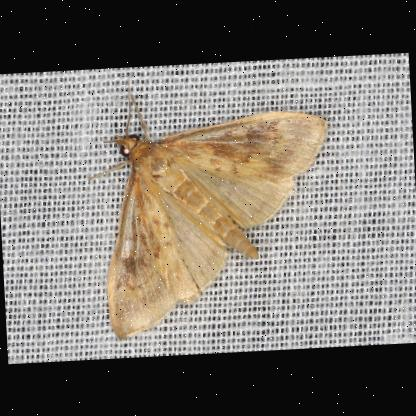Asian Corn Borer Moth: (80, 64, 340, 346)
